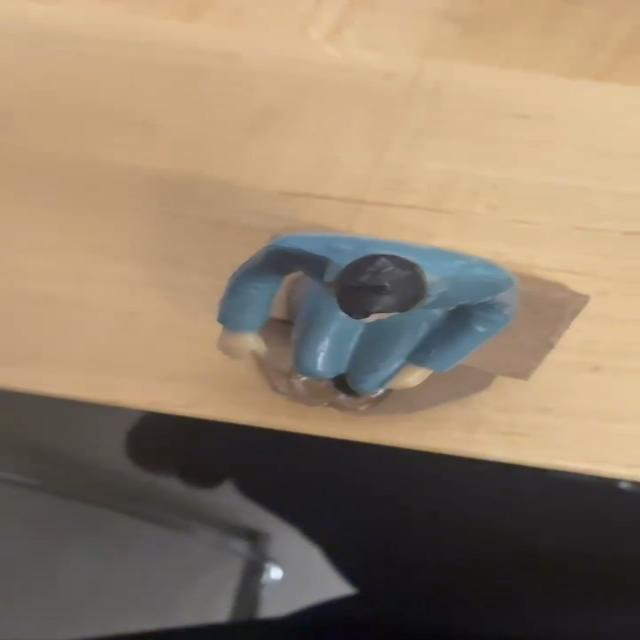Authorized: (34, 221, 640, 430)
